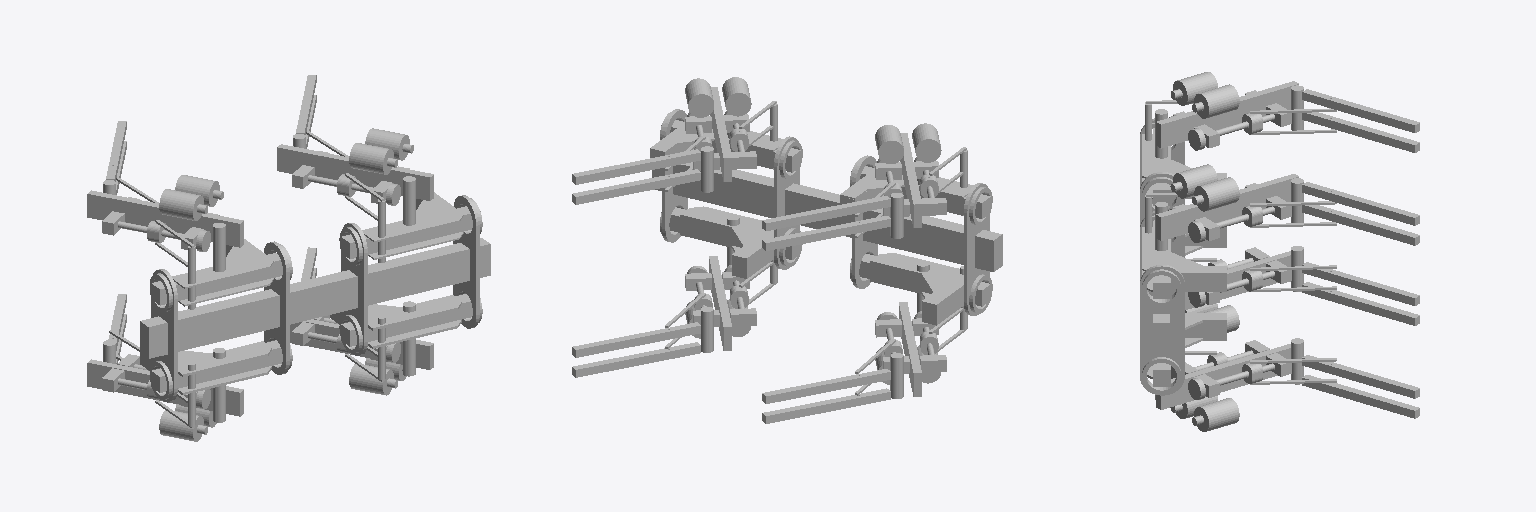
File: DogV3.obj
3 renders of one model, left to right at view 1: azimuth 30°, elevation 25°; view 2: azimuth 150°, elevation 25°; view 3: azimuth 270°, elevation 25°, orthographic.
Parts seen in each view (by area): view 1: Mesh165, Mesh164, Mesh440, Mesh595, Mesh535, Mesh690, Mesh36, Mesh366, Mesh131, Mesh517, Mesh672, Mesh113 (+16 smaller); view 2: Mesh167, Mesh131, Mesh366, Mesh164, Mesh111, Mesh346, Mesh642, Mesh83, Mesh487, Mesh493, Mesh318, Mesh324 (+14 smaller); view 3: Mesh217, Mesh438, Mesh593, Mesh690, Mesh269, Mesh535, Mesh643, Mesh495, Mesh650, Mesh488, Mesh319, Mesh84 (+11 smaller).
Boxes of the visible parts, <box> form: Mesh165: <box>149,244,490,358</box>; Mesh164: <box>141,238,489,326</box>; Mesh440: <box>87,194,239,247</box>; Mesh595: <box>277,147,429,200</box>; Mesh535: <box>172,239,273,286</box>; Mesh690: <box>362,192,463,240</box>; Mesh36: <box>87,363,239,416</box>; Mesh366: <box>368,295,461,327</box>; Mesh131: <box>178,341,271,374</box>; Mesh517: <box>160,260,282,305</box>; Mesh672: <box>350,211,480,258</box>; Mesh113: <box>160,348,282,392</box>; Mesh167: <box>652,165,993,271</box>; Mesh131: <box>871,253,963,304</box>; Mesh366: <box>680,206,773,257</box>; Mesh164: <box>681,162,1001,240</box>; Mesh111: <box>851,259,981,306</box>; Mesh346: <box>661,212,791,259</box>; Mesh642: <box>576,173,700,204</box>; Mesh83: <box>766,372,890,403</box>; Mesh487: <box>766,219,890,250</box>; Mesh493: <box>766,199,890,230</box>; Mesh318: <box>576,326,700,357</box>; Mesh324: <box>576,345,700,377</box>; Mesh217: <box>1140,266,1184,395</box>; Mesh438: <box>1161,84,1298,148</box>; Mesh593: <box>1161,177,1298,240</box>; Mesh690: <box>1142,227,1226,272</box>; Mesh269: <box>1161,348,1290,409</box>; Mesh535: <box>1142,134,1226,179</box>; Mesh643: <box>1302,205,1414,245</box>; Mesh495: <box>1302,92,1414,132</box>; Mesh650: <box>1302,185,1414,225</box>; Mesh488: <box>1302,113,1414,152</box>; Mesh319: <box>1302,358,1414,398</box>; Mesh84: <box>1302,265,1414,305</box>.
Bounding box in the file's own units: 900 × 615 × 640.